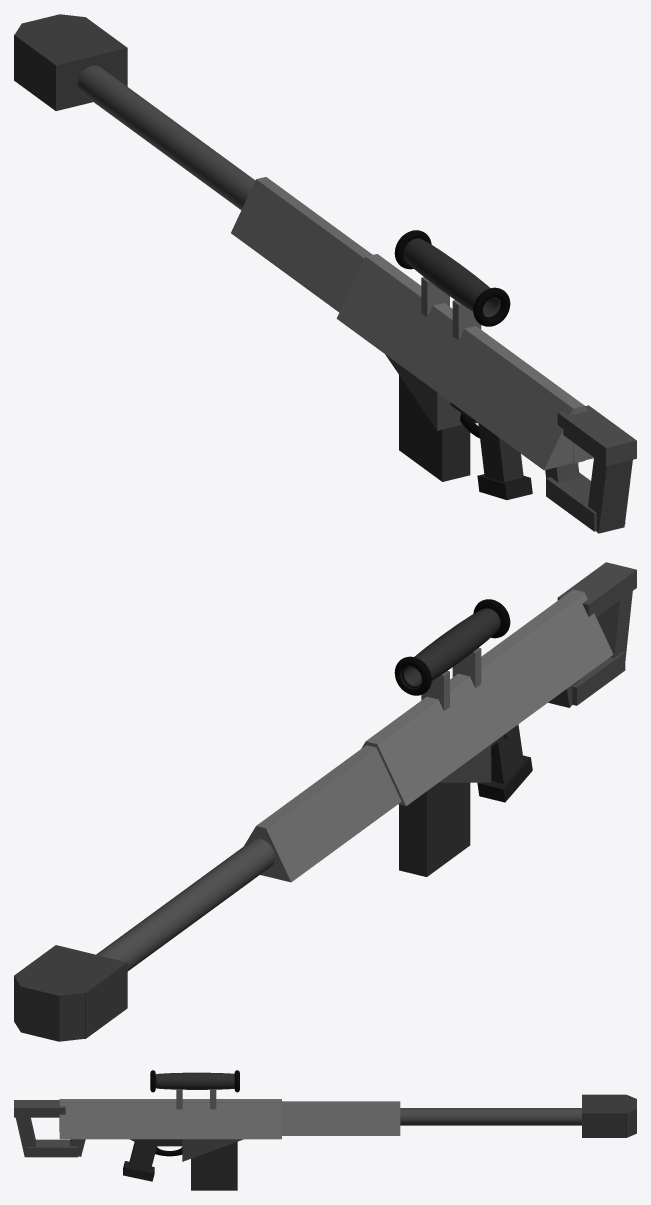
File: sniper.glb
The picture shows the model from 3 angles, top to bottom: view 1: azimuth 30°, elevation 25°; view 2: azimuth 150°, elevation 25°; view 3: azimuth 270°, elevation 25°; orthographic projection. The views are drawn at different scales.
Visible parts, largest first — view 1: mesh_6_1, mesh_3_1, mesh_0, mesh_22, mesh_14_1, mesh_10_2, mesh_10_4, mesh_5_2, mesh_10_1, mesh_18_4, mesh_14_4, mesh_9_2 (+10 smaller); view 2: mesh_6_1, mesh_3_1, mesh_0, mesh_14_1, mesh_22, mesh_10_2, mesh_5_2, mesh_14_5, mesh_10_1, mesh_9_5, mesh_9_2, mesh_17_2 (+9 smaller); view 3: mesh_4_1, mesh_1_1, mesh_0, mesh_14, mesh_22, mesh_10, mesh_10_2, mesh_13, mesh_5_2, mesh_15, mesh_20, mesh_17 (+8 smaller).
Part boxes in pixels (bbox=[...]): mesh_6_1: bbox=[336, 257, 572, 469]; mesh_3_1: bbox=[231, 179, 364, 312]; mesh_0: bbox=[77, 65, 255, 209]; mesh_22: bbox=[403, 238, 500, 317]; mesh_14_1: bbox=[399, 375, 442, 481]; mesh_10_2: bbox=[14, 17, 127, 65]; mesh_10_4: bbox=[56, 48, 127, 110]; mesh_5_2: bbox=[366, 254, 584, 408]; mesh_10_1: bbox=[14, 35, 55, 110]; mesh_18_4: bbox=[598, 460, 632, 533]; mesh_14_4: bbox=[442, 425, 470, 481]; mesh_9_2: bbox=[22, 14, 100, 54]; mesh_6_1: bbox=[377, 593, 613, 805]; mesh_3_1: bbox=[266, 748, 401, 881]; mesh_0: bbox=[96, 838, 274, 971]; mesh_14_1: bbox=[427, 782, 470, 876]; mesh_22: bbox=[400, 608, 500, 689]; mesh_10_2: bbox=[14, 945, 127, 992]; mesh_5_2: bbox=[366, 589, 584, 743]; mesh_14_5: bbox=[399, 791, 426, 876]; mesh_10_1: bbox=[85, 963, 127, 1038]; mesh_9_5: bbox=[21, 986, 59, 1041]; mesh_9_2: bbox=[22, 956, 99, 995]; mesh_17_2: bbox=[558, 562, 636, 604]; mesh_4_1: bbox=[59, 1102, 281, 1139]; mesh_1_1: bbox=[282, 1104, 400, 1135]; mesh_0: bbox=[400, 1108, 581, 1125]; mesh_14: bbox=[191, 1142, 237, 1190]; mesh_22: bbox=[155, 1072, 234, 1089]; mesh_10: bbox=[582, 1113, 626, 1137]; mesh_10_2: bbox=[582, 1094, 626, 1113]; mesh_13: bbox=[182, 1139, 243, 1161]; mesh_5_2: bbox=[59, 1099, 281, 1101]; mesh_15: bbox=[129, 1140, 156, 1171]; mesh_20: bbox=[26, 1147, 78, 1157]; mesh_17: bbox=[14, 1108, 65, 1117].
Size of the model in its own units: 0.0724 by 0.2083 by 1.02.
119 materials, 119 textured.
